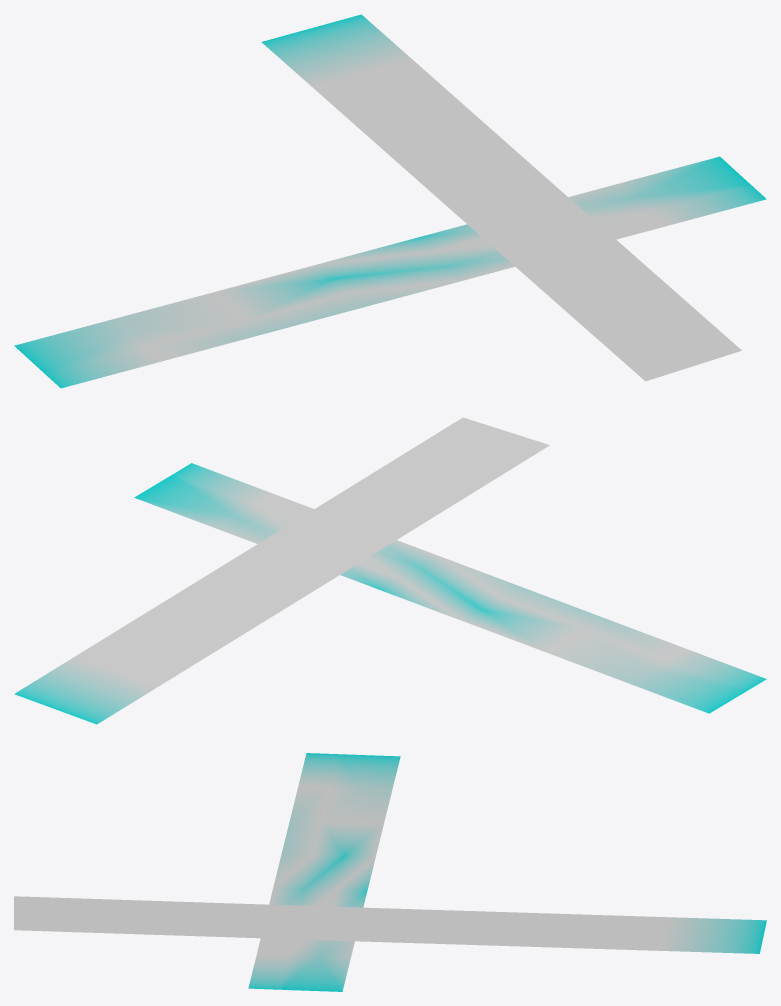
3 views of the same model, one above another, from view 1: azimuth 30°, elevation 25°; view 2: azimuth 150°, elevation 25°; view 3: azimuth 270°, elevation 25° (orthographic). The views are drawn at different scales.
Visible parts, largest first — view 1: SpaceCenter_Long3_GenerateRoad_Asphalt_PCGMesh_Decal_Mesh_x1; view 2: SpaceCenter_Long3_GenerateRoad_Asphalt_PCGMesh_Decal_Mesh_x1; view 3: SpaceCenter_Long3_GenerateRoad_Asphalt_PCGMesh_Decal_Mesh_x1.
Part boxes in pixels (<box>): SpaceCenter_Long3_GenerateRoad_Asphalt_PCGMesh_Decal_Mesh_x1: <box>14,14,766,388</box>; SpaceCenter_Long3_GenerateRoad_Asphalt_PCGMesh_Decal_Mesh_x1: <box>14,417,766,724</box>; SpaceCenter_Long3_GenerateRoad_Asphalt_PCGMesh_Decal_Mesh_x1: <box>14,753,766,991</box>.
Size of the model in its own units: 287 by 254 by 18.04.
